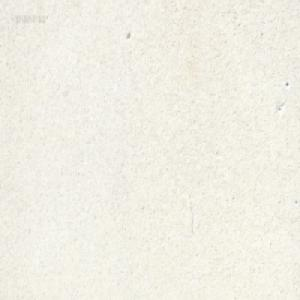Wrench: (179, 0, 186, 5)
